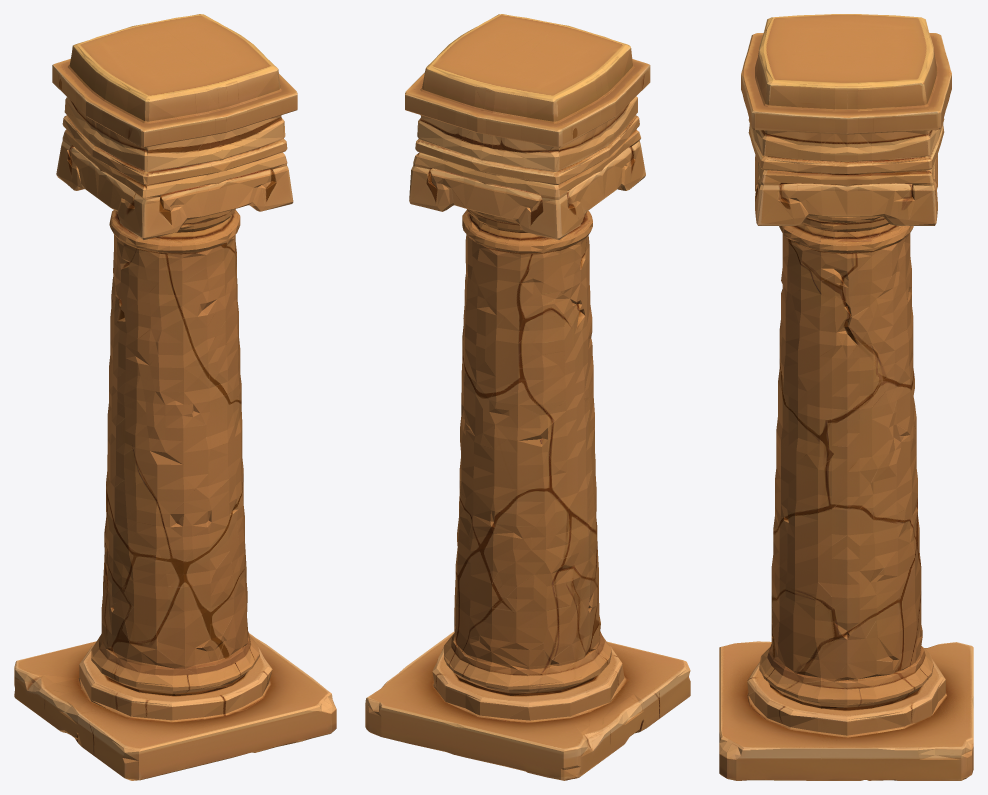
The model's file is sunset-ruin.glb.
The picture shows the model from 3 angles, left to right: view 1: azimuth 30°, elevation 25°; view 2: azimuth 150°, elevation 25°; view 3: azimuth 270°, elevation 25°; orthographic projection. The views are drawn at different scales.
Size of the model in its own units: 0.847 by 2.5 by 0.847.
1 material, 1 textured.
